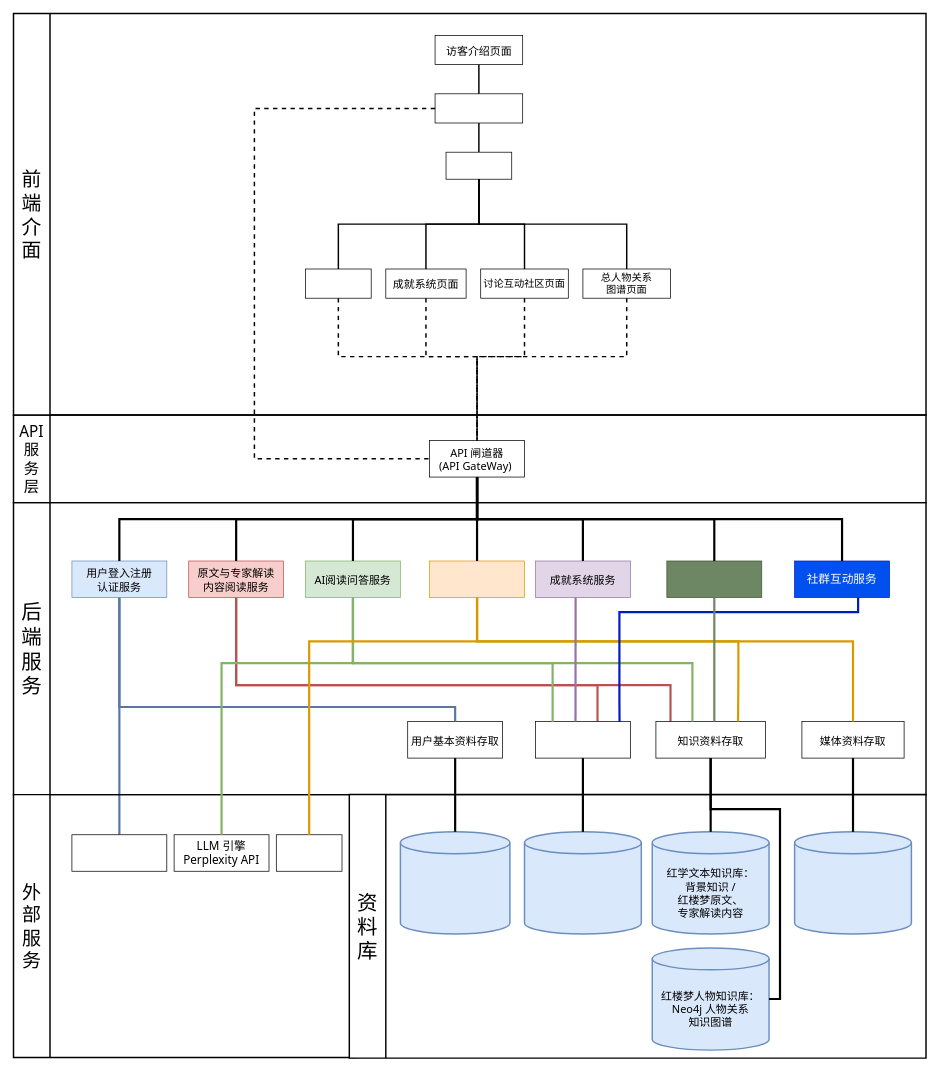
The diagram is 939 pixels wide and 1071 high, and some of its shapes have lost their labels. The shapes that lost their labels are listed below. From the top down, each one's centre as x and y in pixels, then its label:
At pixel 478 108: "登入注册页面".
At pixel 478 165: "首页".
At pixel 338 283: "阅读页面".
At pixel 477 579: "媒体管理服务".
At pixel 714 579: "知识图谱服务".
At pixel 582 739: "用户内容资料存取".
At pixel 119 852: "第三方登入".
At pixel 309 852: "AI语音 朗读服务".
At pixel 454 882: "用户基本数据库 PostgreSQL： 用户资料/权限/设定".
At pixel 582 882: "用户内容数据库 PostgreSQL： 进度/笔记/讨论/成就".
At pixel 853 882: "媒体数据库 MongoDB ：图片 多媒体内容".
